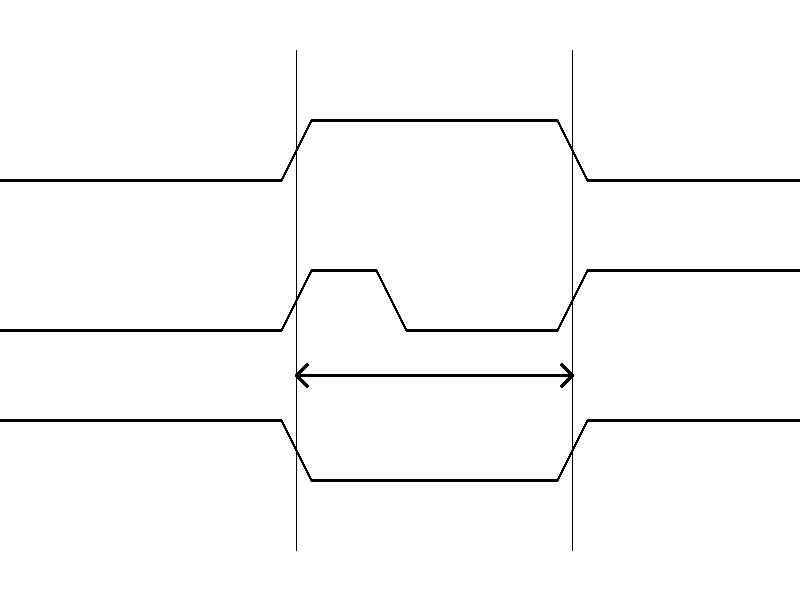double_arrow: (296, 360, 572, 390)
